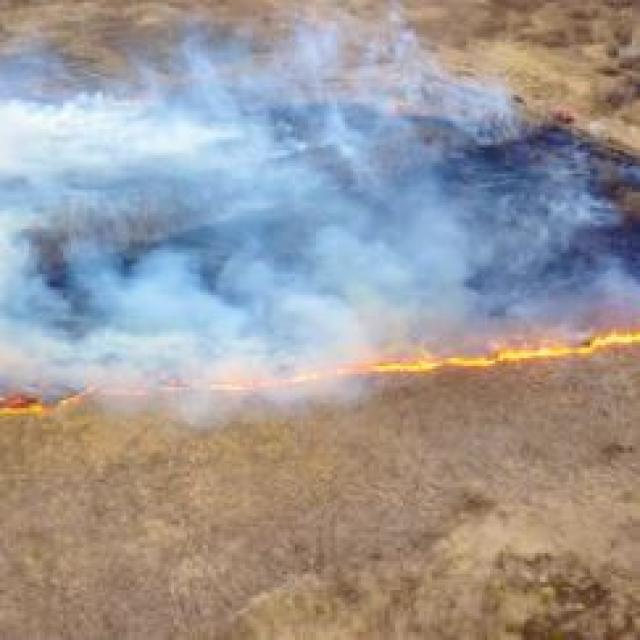Smoke: (0, 13, 640, 382)
